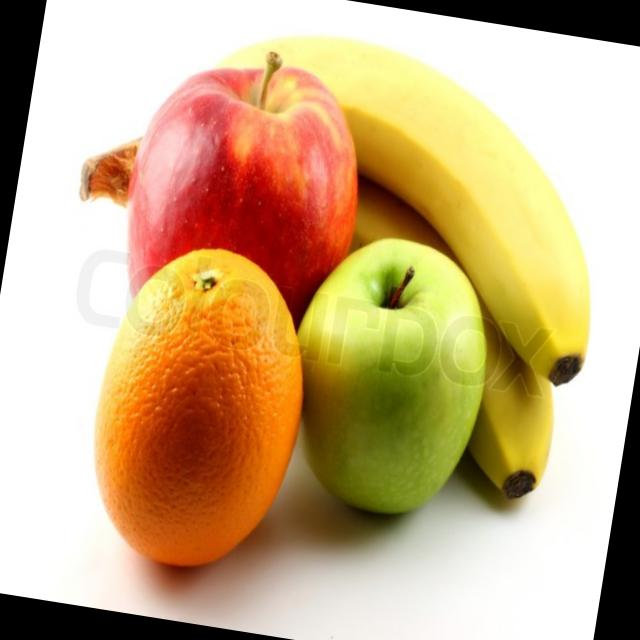apple: (96, 72, 392, 381)
banana: (158, 14, 640, 401)
orange: (68, 233, 329, 596)
